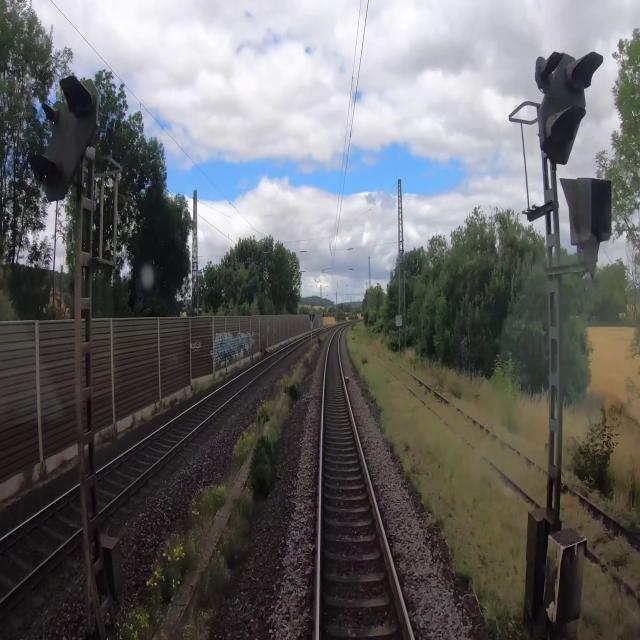Plant: (345, 321, 639, 639), (115, 331, 331, 639)
